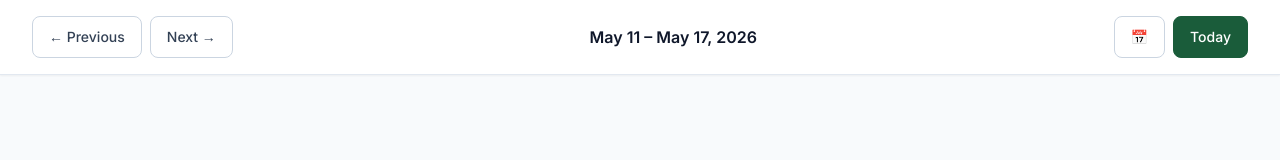
it: WeekNavigator › date picker opens and allows selecting a new week start
The width and height of the screenshot is (1280, 160).
Click the button named "open date picker" at (1139, 37), box 1114,16 -> 1165,58
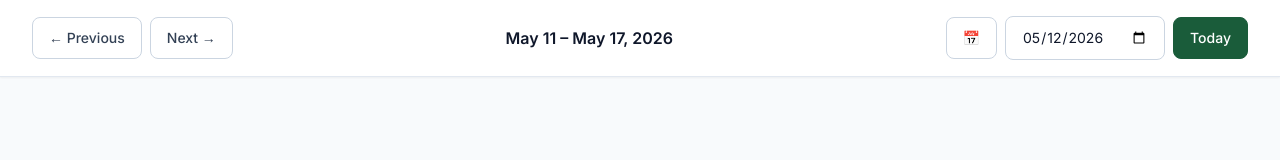
Expected: the date field showing "2026-05-12" is shown, 1005,16 -> 1165,60
